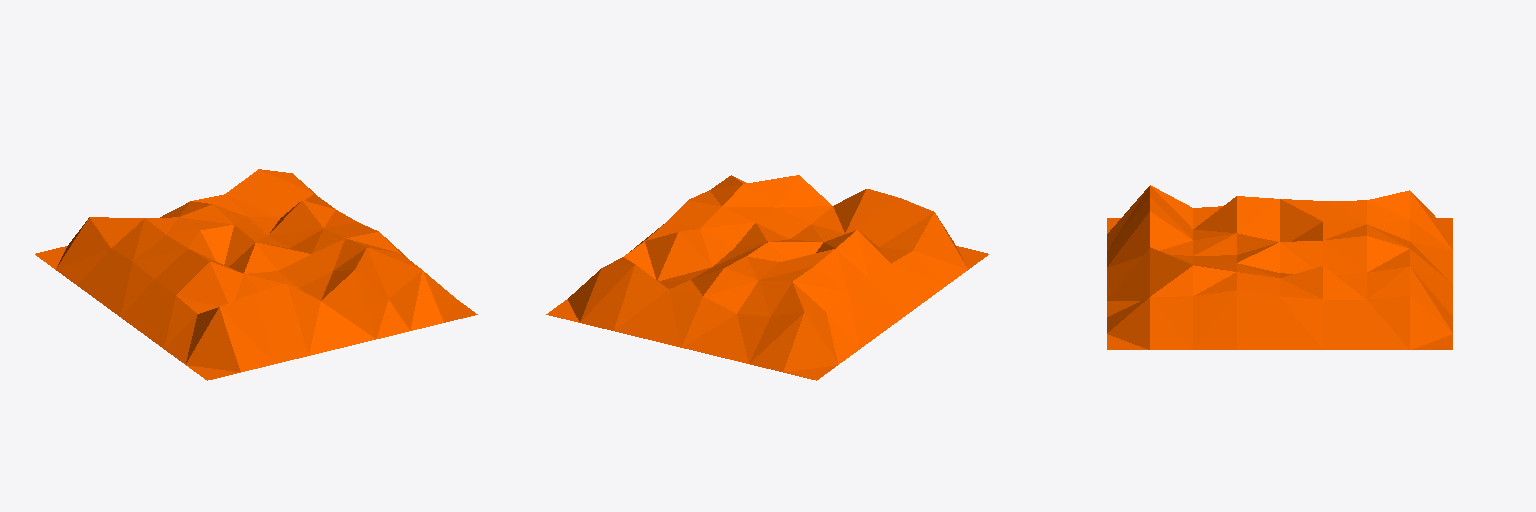
The model's file is lava1.obj.
3 views of the same model, side by side, from view 1: azimuth 30°, elevation 25°; view 2: azimuth 150°, elevation 25°; view 3: azimuth 270°, elevation 25° (orthographic).
Parts seen in each view (by area): view 1: pPlane2; view 2: pPlane2; view 3: pPlane2.
Part boxes in pixels (x1,y1,x2,y2): pPlane2: (35, 169, 477, 380); pPlane2: (546, 175, 988, 380); pPlane2: (1107, 185, 1452, 349).
Bounding box in the file's own units: 25.52 × 5.1 × 28.26.